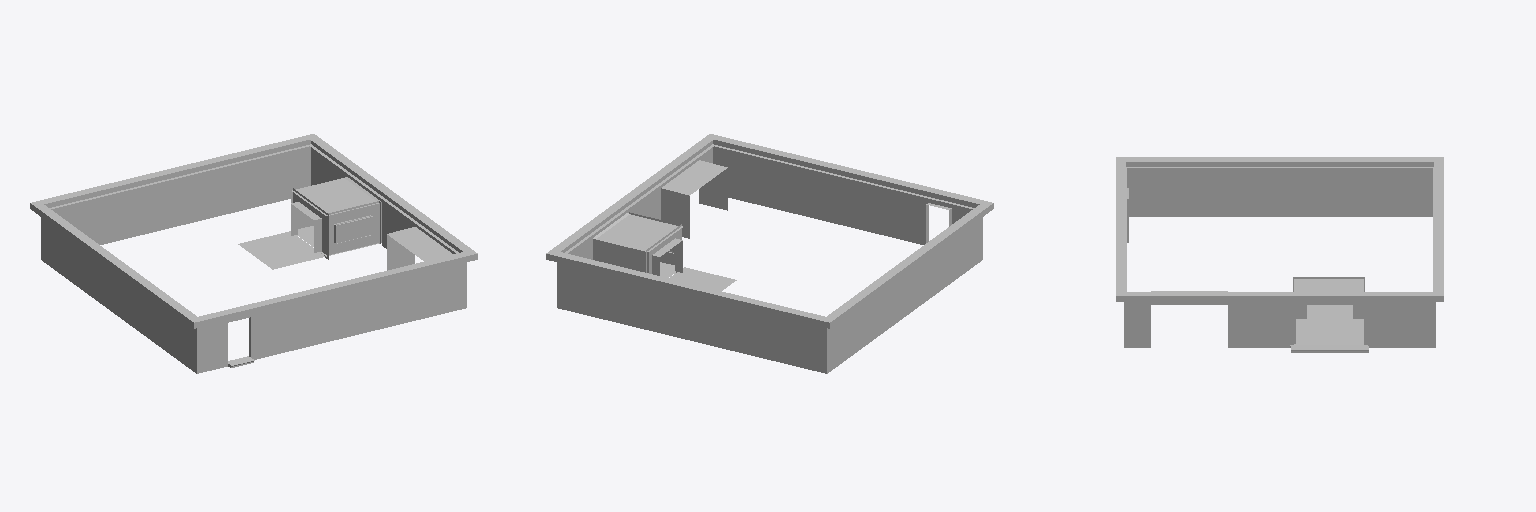
The model's file is Buildings03_Flat floors.obj.
The picture shows the model from 3 angles: view 1: azimuth 30°, elevation 25°; view 2: azimuth 150°, elevation 25°; view 3: azimuth 270°, elevation 25°; orthographic projection.
Parts seen in each view (by area): view 1: Cube.001_Cube.003; view 2: Cube.001_Cube.003; view 3: Cube.001_Cube.003.
Part boxes in pixels (bbox=[...]): Cube.001_Cube.003: bbox=[30, 134, 477, 373]; Cube.001_Cube.003: bbox=[546, 134, 993, 373]; Cube.001_Cube.003: bbox=[1116, 157, 1443, 352].
Size of the model in its own units: 21.3 by 4 by 21.